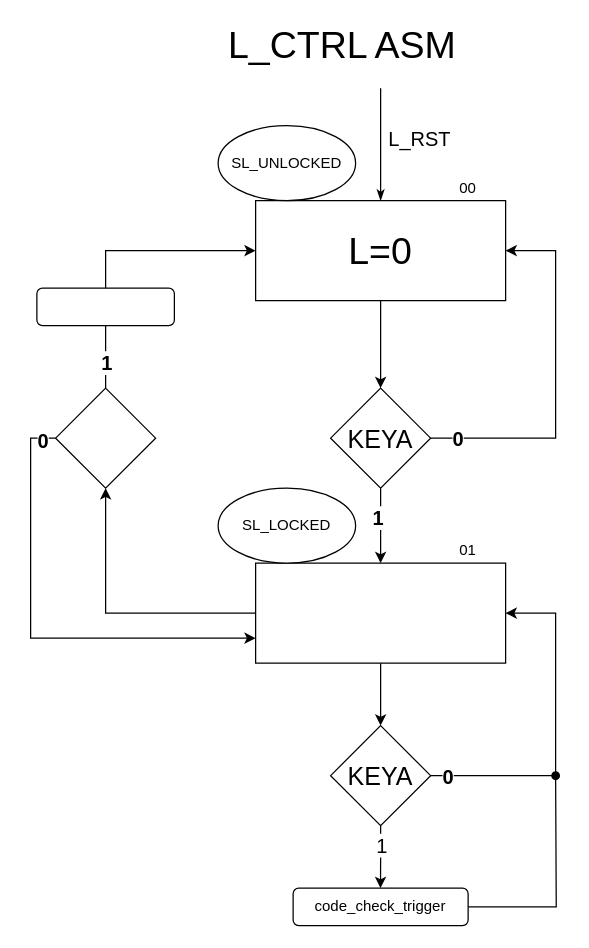
Some shapes in this 589 by 948 pixel diagram are drawn without their labels. The centre of each missing label's shape, as x and y in pixels:
"L=1" goes at pixel 380 612.
"unlock" goes at pixel 105 437.
"unlock=0" goes at pixel 105 306.
